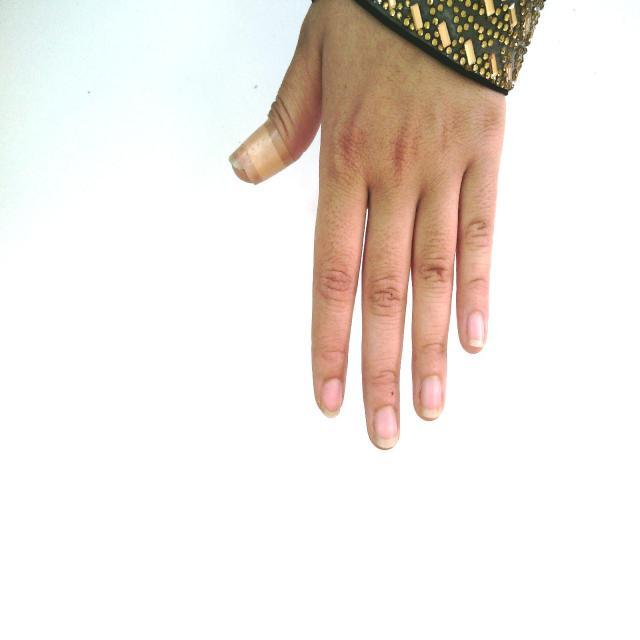Fingernail: (419, 376, 442, 418), (375, 408, 398, 447), (322, 379, 342, 415), (468, 311, 485, 346)
